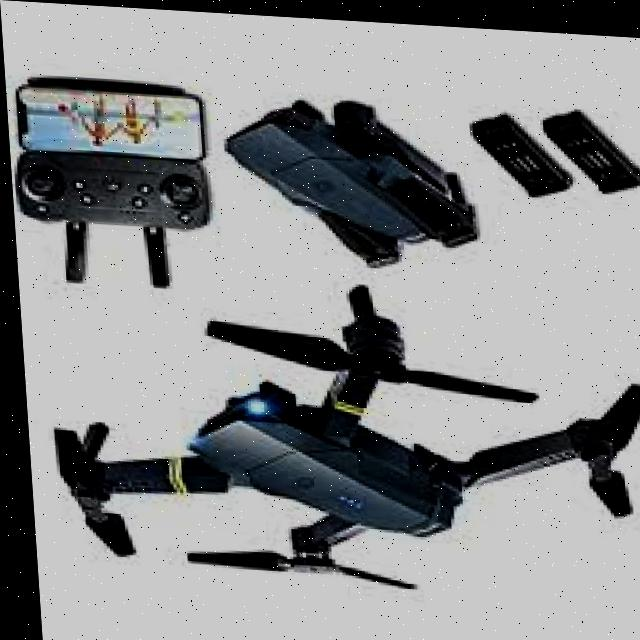drone: (13, 258, 640, 614)
